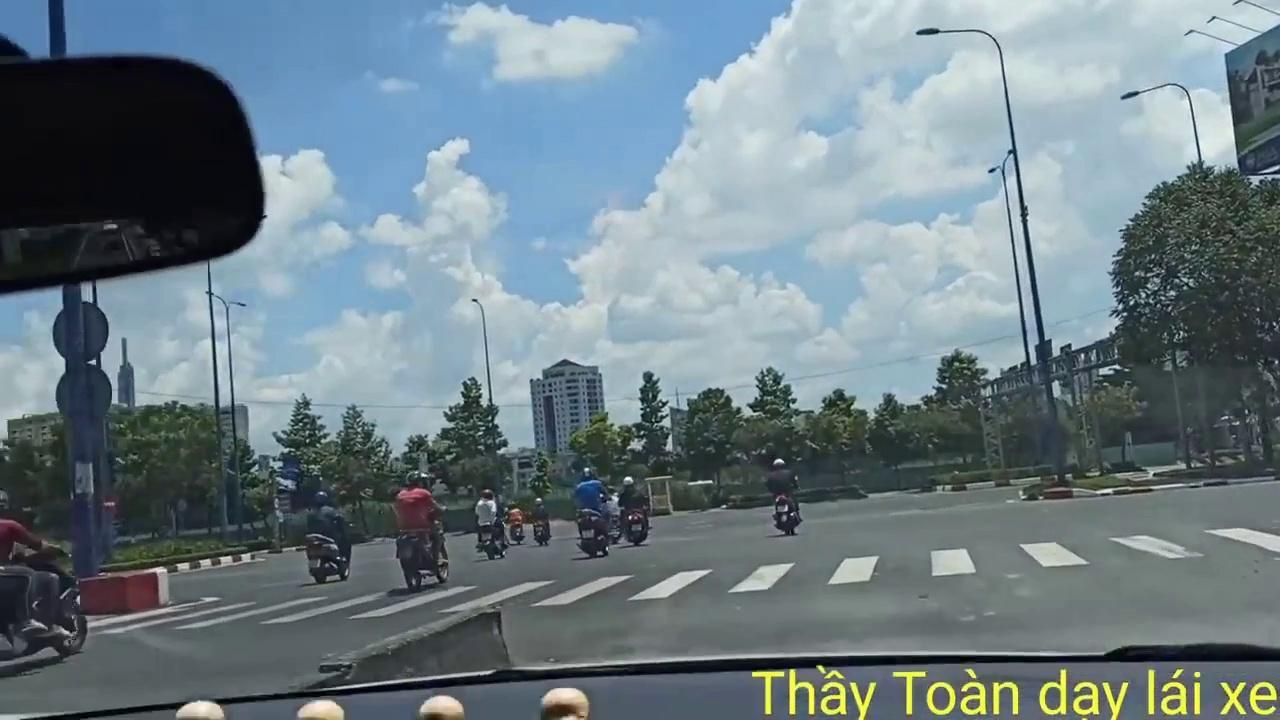Cấm đi ngược chiều: (100, 490, 120, 515)
